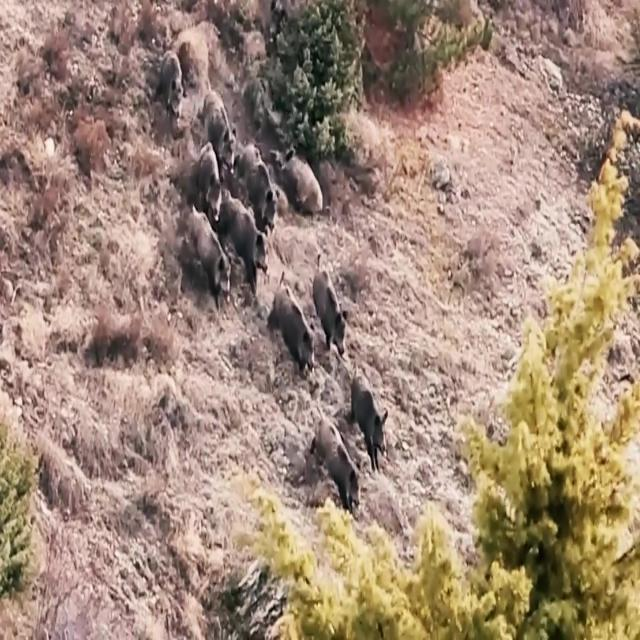pig: (320, 411, 372, 501), (178, 199, 224, 293), (270, 268, 310, 364), (352, 374, 397, 454), (314, 260, 346, 370)
